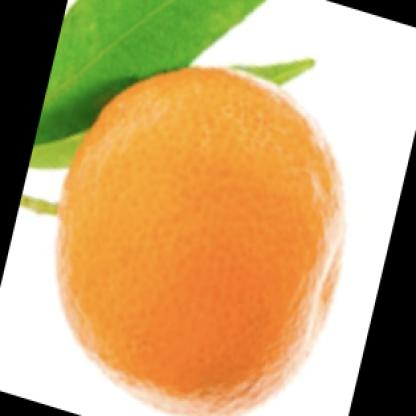fresh: (55, 68, 343, 416)
